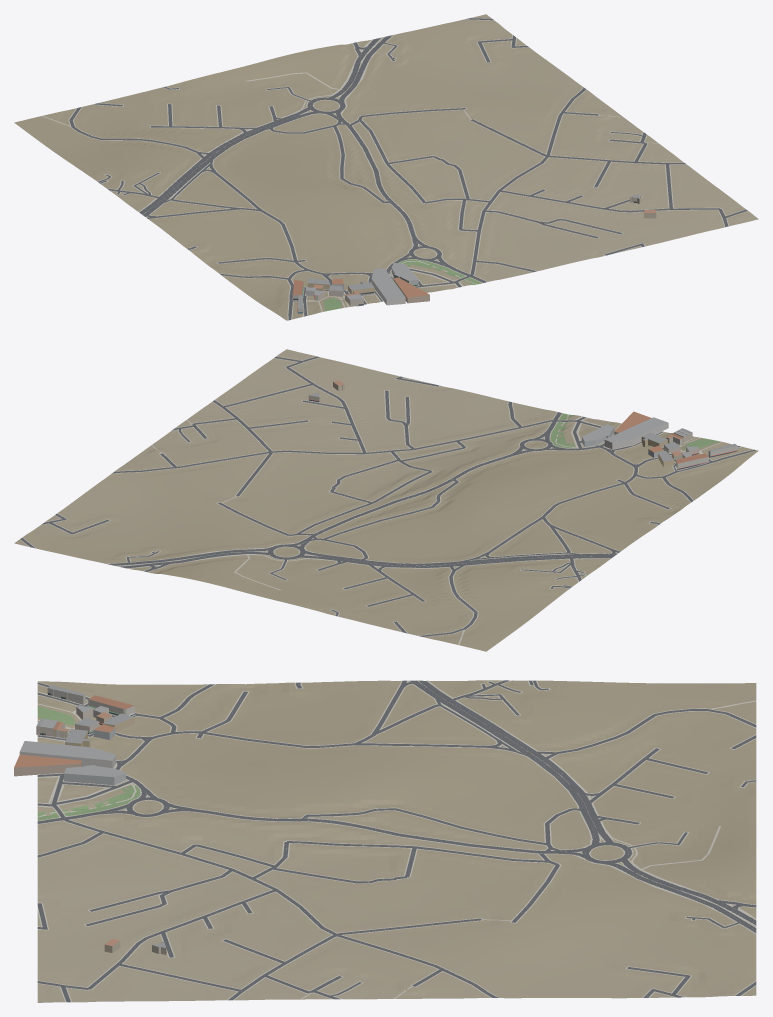
3 views of the same model, one above another, from view 1: azimuth 30°, elevation 25°; view 2: azimuth 150°, elevation 25°; view 3: azimuth 270°, elevation 25° (orthographic). The views are drawn at different scales.
Parts seen in each view (by area): view 1: Ground, Road, Sidewalk, Roofs, Walls, Park; view 2: Ground, Road, Sidewalk, Roofs, Walls, Park; view 3: Ground, Road, Sidewalk, Roofs, Walls, Park.
Part boxes in pixels (x1,y1,x2,y2): Ground: (14, 14, 758, 320); Road: (69, 18, 747, 320); Sidewalk: (41, 17, 747, 320); Roofs: (293, 194, 655, 308); Walls: (293, 197, 656, 313); Park: (323, 259, 481, 311); Ground: (14, 349, 758, 651); Road: (20, 356, 756, 636); Sidewalk: (20, 356, 757, 645); Roofs: (309, 380, 737, 463); Walls: (308, 382, 737, 470); Park: (551, 413, 720, 449); Ground: (37, 680, 756, 1002); Road: (37, 680, 756, 1002); Sidewalk: (37, 680, 756, 1002); Roofs: (14, 685, 165, 947); Walls: (14, 688, 166, 954); Park: (37, 706, 140, 820).
Size of the model in its own units: 1003 by 37.58 by 1037.
